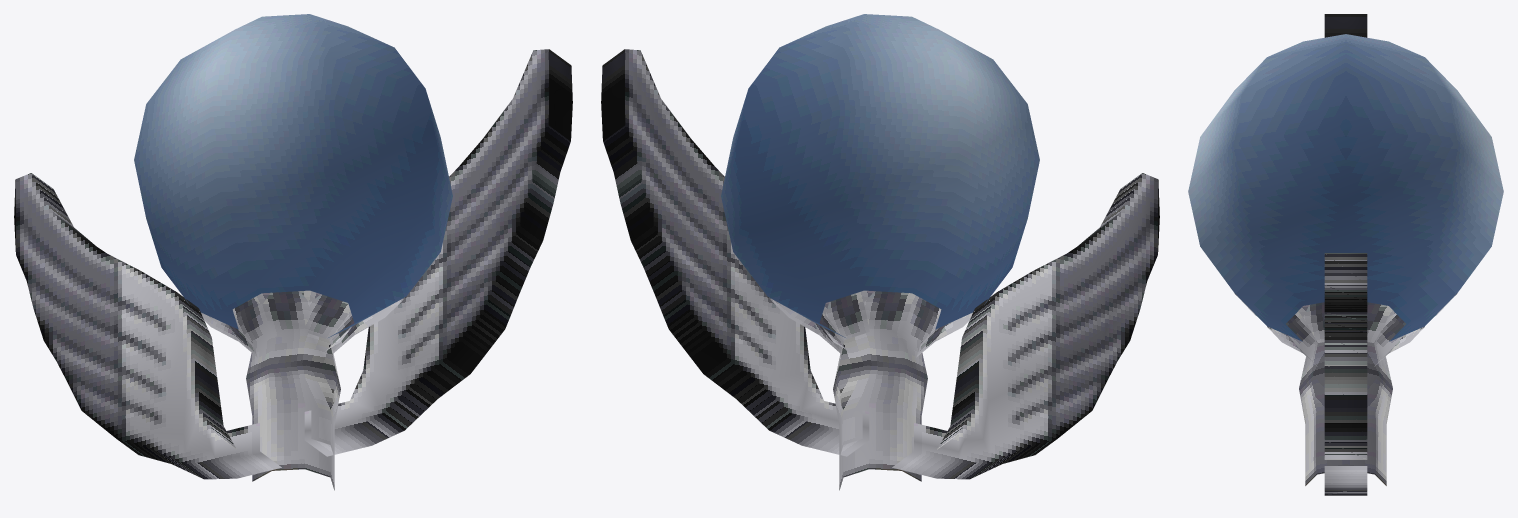
The model's file is ps2_save-icons_drastickiller.glb.
The picture shows the model from 3 angles, left to right: view 1: azimuth 30°, elevation 25°; view 2: azimuth 150°, elevation 25°; view 3: azimuth 270°, elevation 25°; orthographic projection. The views are drawn at different scales.
Visible parts, largest first — view 1: static.ico; view 2: static.ico; view 3: static.ico.
Boxes of the visible parts, <box> form: static.ico: <box>14,14,572,490</box>; static.ico: <box>601,14,1159,490</box>; static.ico: <box>1188,14,1503,495</box>.
Size of the model in its own units: 2.24 by 1.83 by 1.19.
Materials: 1 (1 with a texture image).
